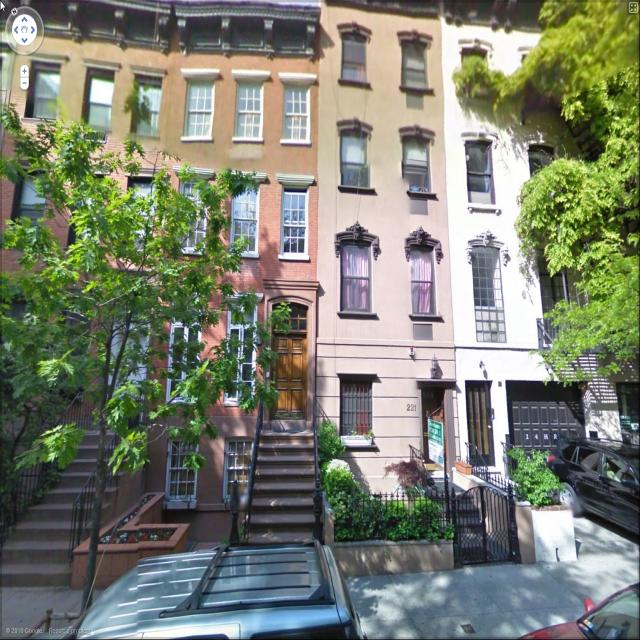b_1: (322, 4, 456, 481)
b_2: (152, 11, 314, 506), (0, 2, 156, 487), (454, 10, 601, 479)
